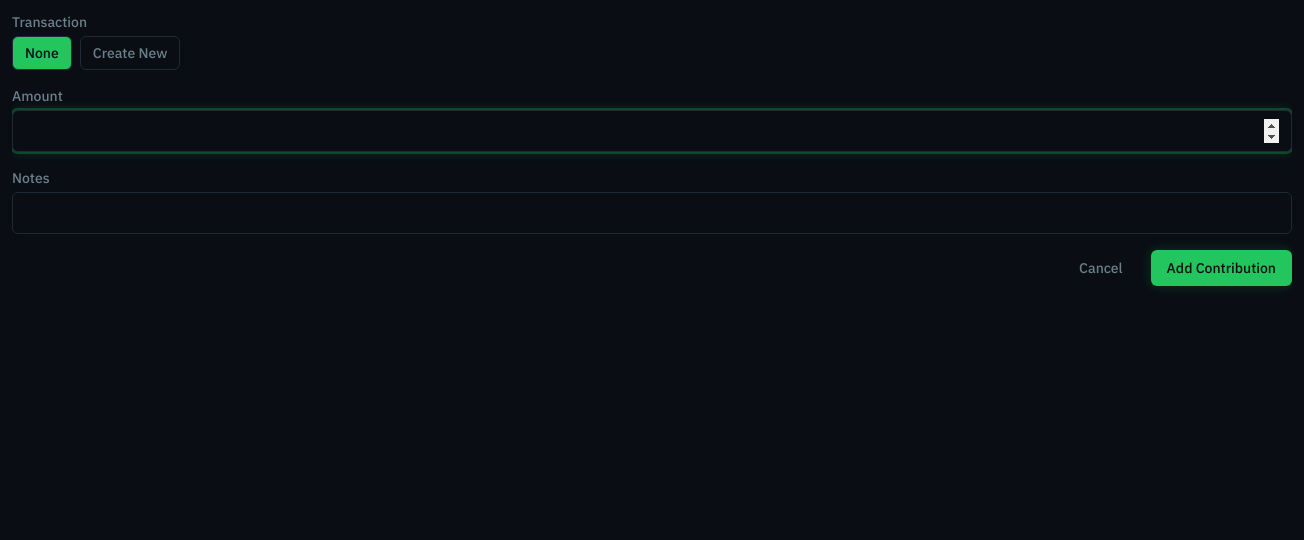
Scenario: ContributeForm › defaults category to Debt Payment for debt_payoff goals
Click the button "Create New" at (130, 53), box [80, 36, 180, 70]
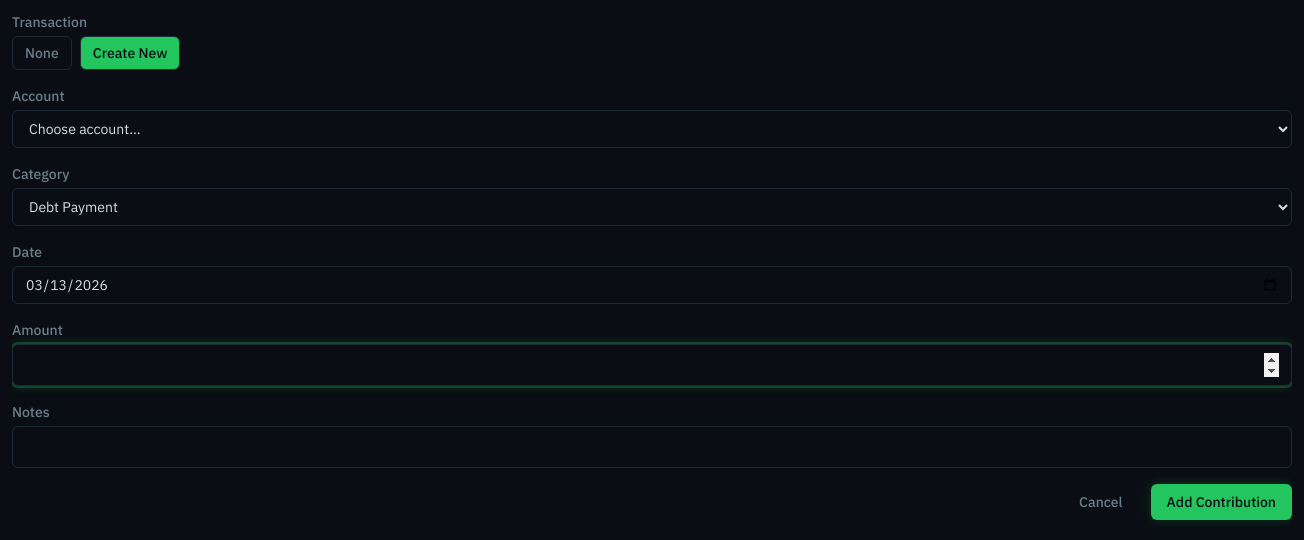
Result: the dropdown labelled "Category" shows "Debt Payment" at [12, 188, 1292, 226]
